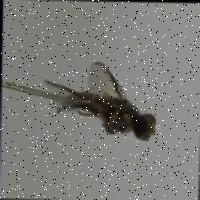Oriental-fruit-fly: (45, 48, 169, 142)
